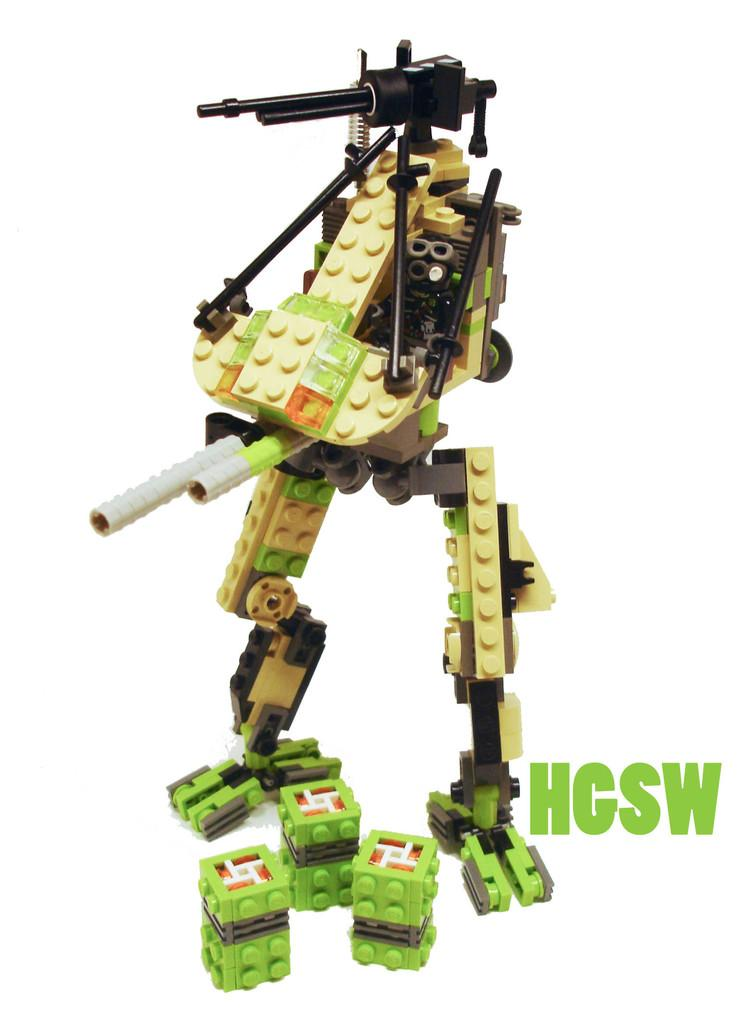Rifle: (204, 47, 475, 170)
